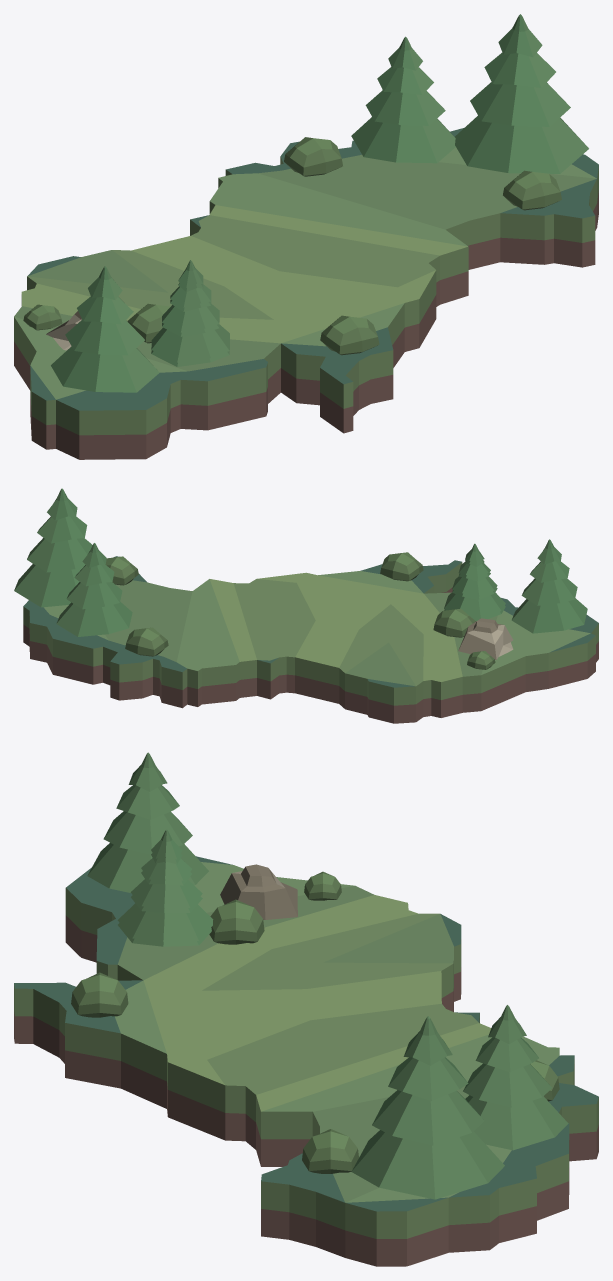
Rendered from lensk.gltf.
3 views of the same model, one above another, from view 1: azimuth 30°, elevation 25°; view 2: azimuth 150°, elevation 25°; view 3: azimuth 270°, elevation 25° (orthographic). The views are drawn at different scales.
Parts seen in each view (by area): view 1: ленск; view 2: ленск; view 3: ленск.
Boxes of the visible parts, box(x1,y1,x2,y2) form: ленск: box(14, 14, 598, 459); ленск: box(14, 488, 598, 723); ленск: box(14, 752, 598, 1266).
Size of the model in its own units: 2.19 by 0.624 by 1.5.
